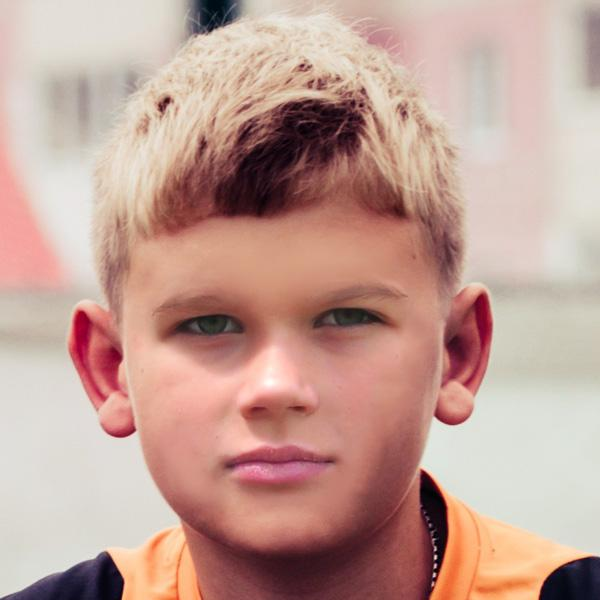Eyes: (295, 294, 408, 348), (156, 302, 248, 353)
